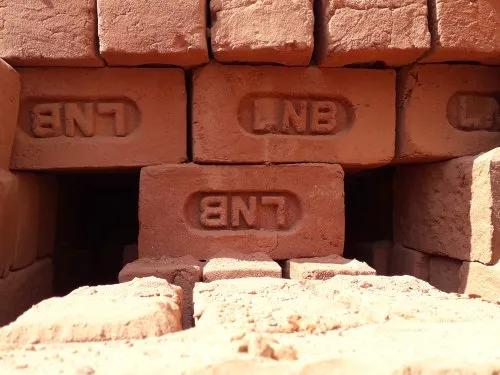brick: (194, 62, 397, 164), (138, 165, 346, 262), (13, 67, 188, 169), (409, 63, 500, 156), (1, 0, 91, 61), (101, 0, 203, 53), (214, 0, 312, 50), (326, 1, 428, 49), (439, 1, 497, 48)
